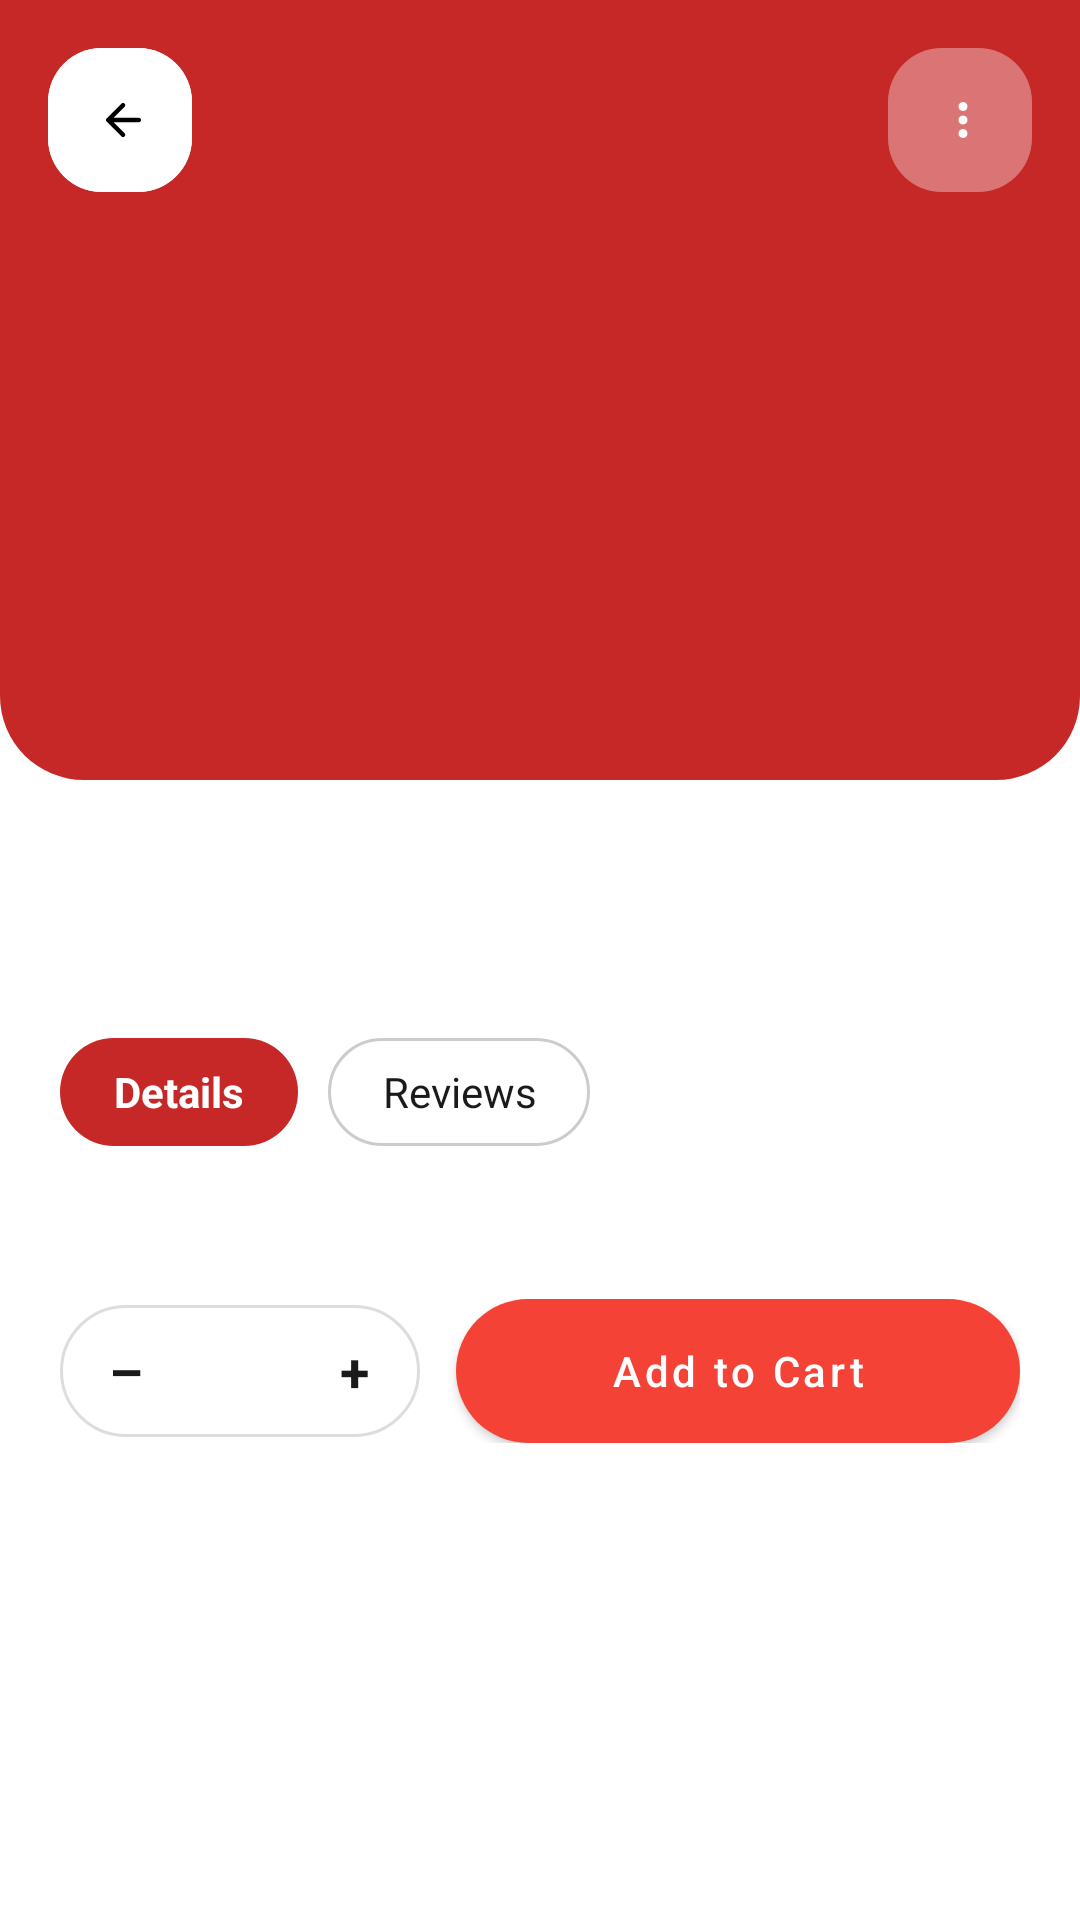

Icons on this 1080px x 1920px Android screen, each with the point to tap as (x,y):
Back: (120,120)
More options: (960,120)
